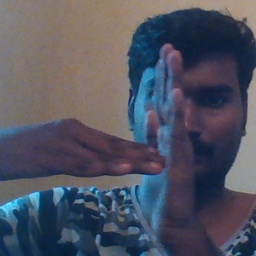Z: (78, 41, 200, 230)
